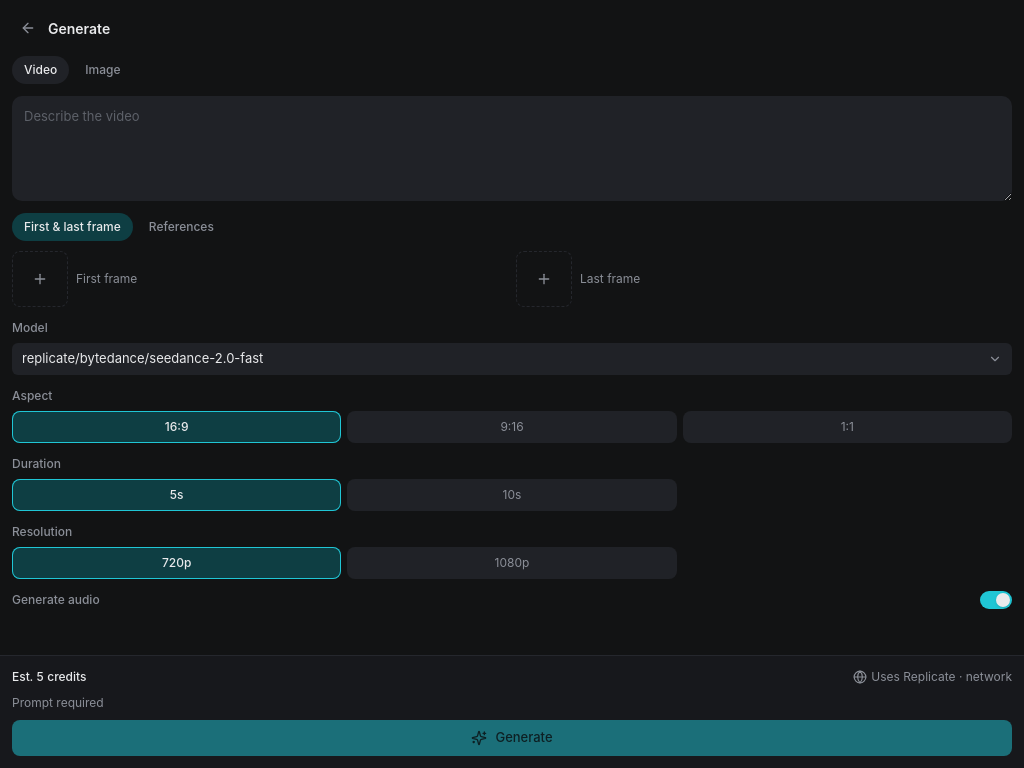
it: GenerateView › shows only the options the selected mode and model offer
Expected: the element named "Duration" is shown, [12,478,677,510]
Expected: the element named "Aspect" is shown, [12,410,1012,442]
Click the radio button labelled "Image" at (103, 70), box [73,56,132,84]
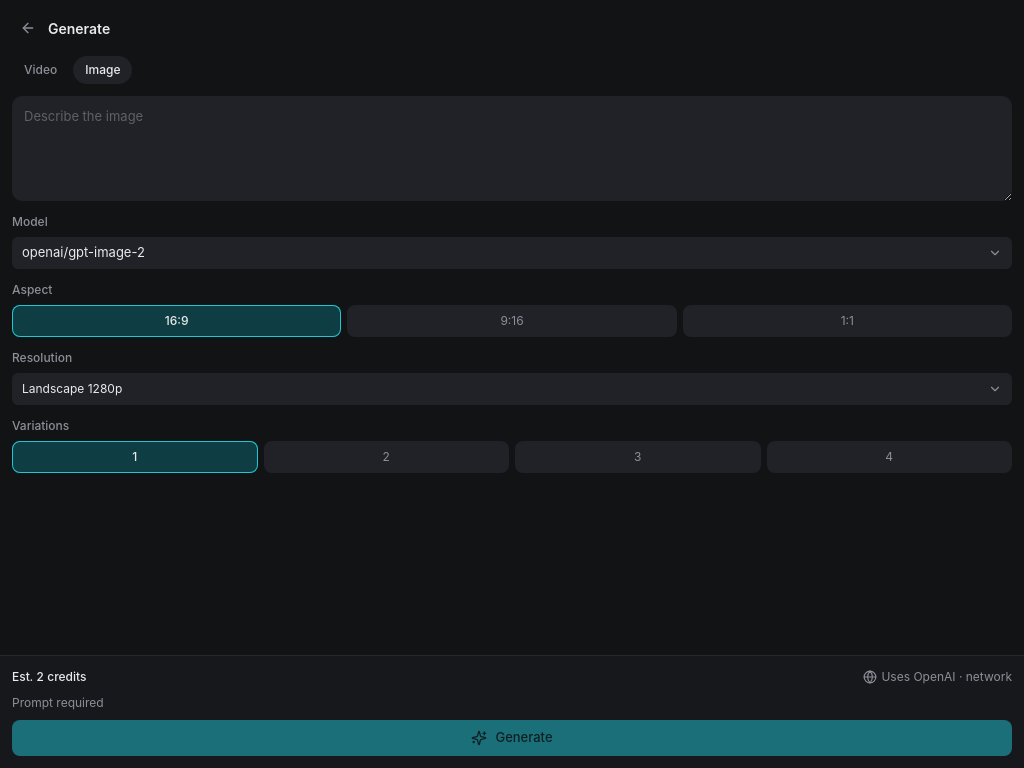
Expected: the text "Duration" is gone
Expected: the radio buttons read "1", "2", "3", "4", in this order, [12,440,258,472]; [264,440,509,472]; [515,440,760,472]; [766,440,1012,472]
